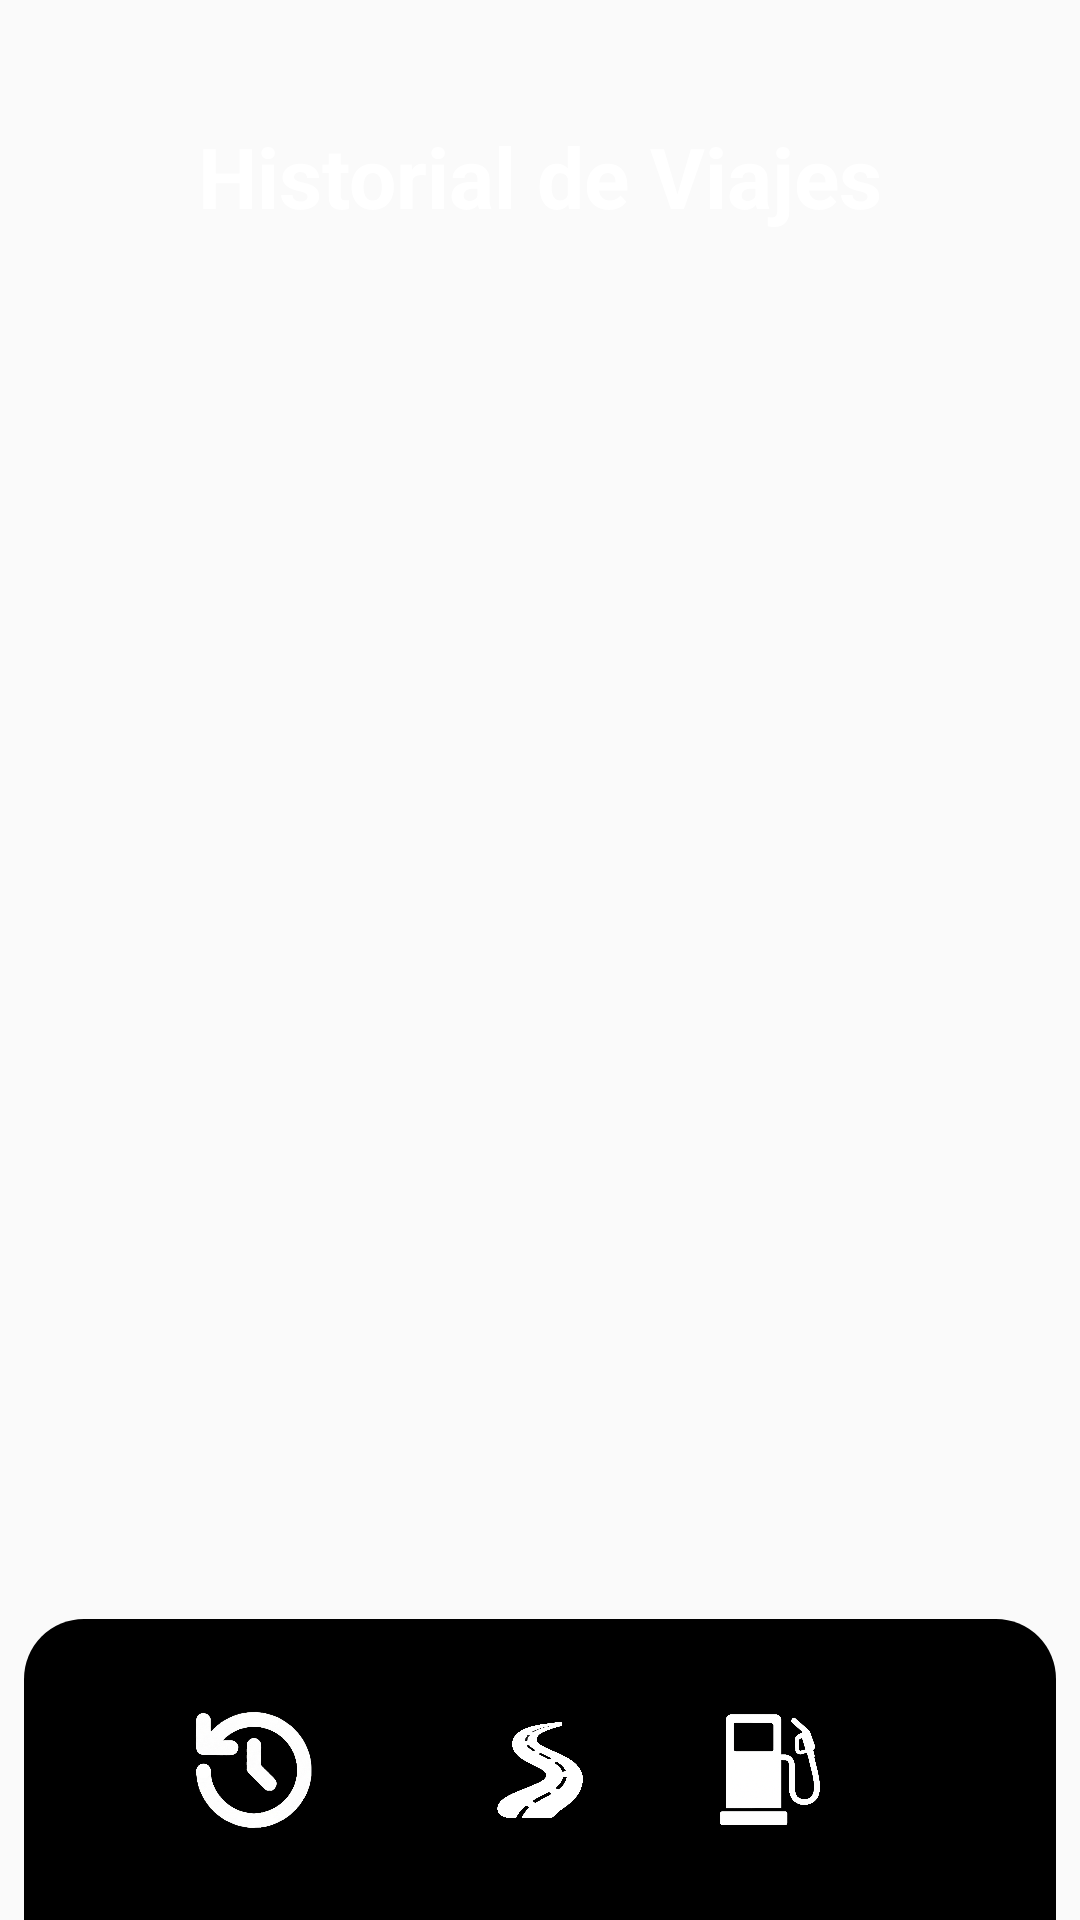

Where icons sit on this 1080 x 1920 app screen, as [x1, y1, x2, y2]:
gasolinera: [720, 1714, 820, 1825]
Historial: [196, 1712, 312, 1828]
